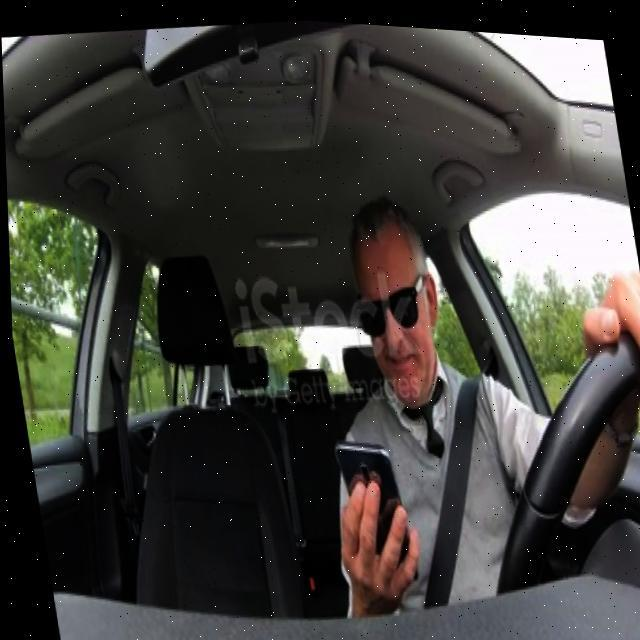PhoneCall: (326, 423, 416, 588)
